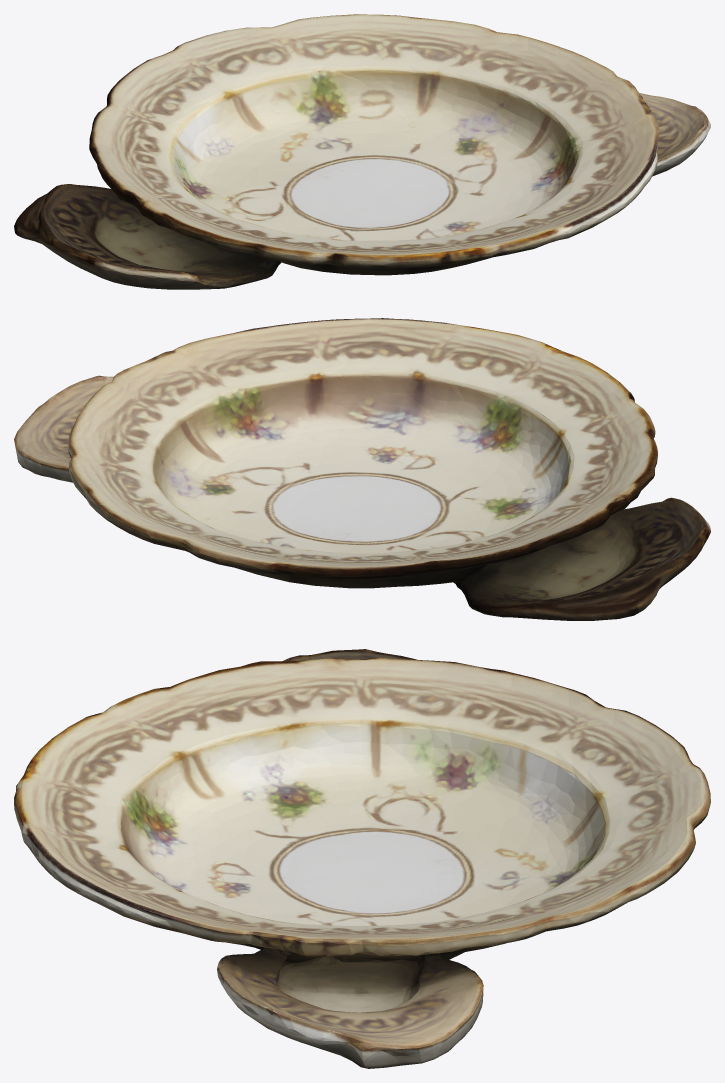
File: porcelain-collectible-plate-used-rustic-worn.jpeg.glb
3 renders of one model, top to bottom at view 1: azimuth 30°, elevation 25°; view 2: azimuth 150°, elevation 25°; view 3: azimuth 270°, elevation 25°, orthographic. The views are drawn at different scales.
Parts seen in each view (by area): view 1: world; view 2: world; view 3: world.
Boxes of the visible parts, x1,y1,x2,y2 form: world: (14,14,710,289); world: (14,318,710,620); world: (14,649,710,1068).
Bounding box in the file's own units: 1 × 0.1176 × 0.7882.
Materials: 1 (1 with a texture image).
